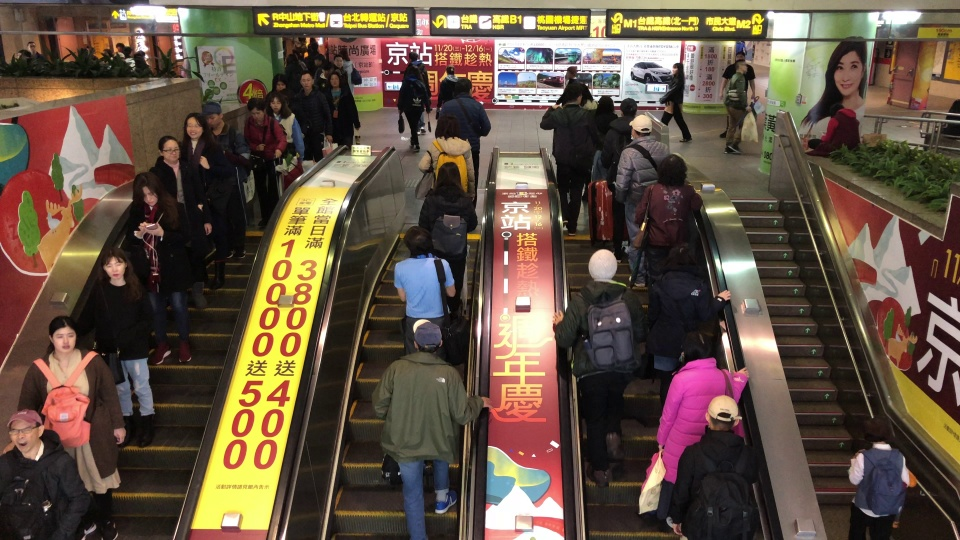person_head: (5, 408, 45, 453), (704, 395, 743, 432), (98, 248, 133, 286), (46, 315, 79, 354), (410, 318, 444, 354), (659, 241, 698, 272), (679, 330, 714, 363), (132, 171, 164, 206), (657, 154, 689, 188), (586, 249, 618, 281), (403, 225, 434, 258), (433, 162, 464, 194), (865, 416, 895, 445), (433, 116, 466, 139), (156, 136, 181, 164), (265, 92, 292, 116), (201, 102, 224, 129), (182, 112, 205, 139), (629, 114, 653, 138), (247, 99, 268, 123), (618, 97, 638, 117), (404, 63, 424, 81), (596, 94, 615, 112), (456, 77, 472, 97), (297, 73, 314, 89), (566, 91, 583, 107), (271, 73, 286, 90), (828, 105, 845, 119), (15, 47, 31, 61), (670, 62, 684, 76), (565, 64, 578, 79), (322, 62, 333, 78), (735, 61, 748, 73), (27, 40, 38, 52), (135, 48, 146, 60), (329, 74, 340, 86), (406, 51, 419, 61), (332, 56, 343, 67), (733, 52, 745, 62), (114, 41, 124, 52), (313, 53, 323, 64), (286, 58, 296, 69), (99, 49, 112, 57), (445, 64, 455, 74), (340, 51, 349, 61), (292, 52, 301, 61), (297, 35, 306, 42), (124, 45, 130, 54), (116, 52, 124, 58), (309, 37, 316, 43)
person_vbox: (369, 317, 493, 540), (17, 315, 129, 540), (551, 247, 648, 491), (652, 329, 747, 527), (645, 240, 732, 418), (670, 395, 765, 540), (92, 247, 159, 451), (125, 169, 193, 366), (0, 407, 96, 540), (411, 162, 478, 332), (148, 135, 207, 310), (177, 110, 232, 290), (842, 415, 918, 540), (615, 113, 670, 283), (390, 225, 458, 359), (629, 154, 700, 279), (200, 101, 253, 259), (538, 90, 595, 236), (434, 76, 491, 211), (245, 97, 288, 226), (416, 116, 475, 204), (599, 96, 640, 189), (581, 93, 618, 194), (717, 52, 755, 140), (658, 61, 694, 145), (806, 104, 862, 157), (264, 92, 305, 163), (326, 72, 364, 147), (295, 72, 327, 161), (395, 63, 425, 153), (722, 60, 750, 152), (405, 50, 434, 136), (432, 63, 460, 119), (557, 64, 593, 104), (265, 73, 294, 113), (341, 50, 363, 99), (318, 63, 332, 101), (24, 38, 44, 63), (331, 55, 347, 82), (285, 59, 302, 84), (134, 49, 150, 71), (97, 47, 114, 65), (293, 33, 306, 56), (291, 53, 307, 69), (311, 53, 324, 70), (308, 38, 319, 56)
